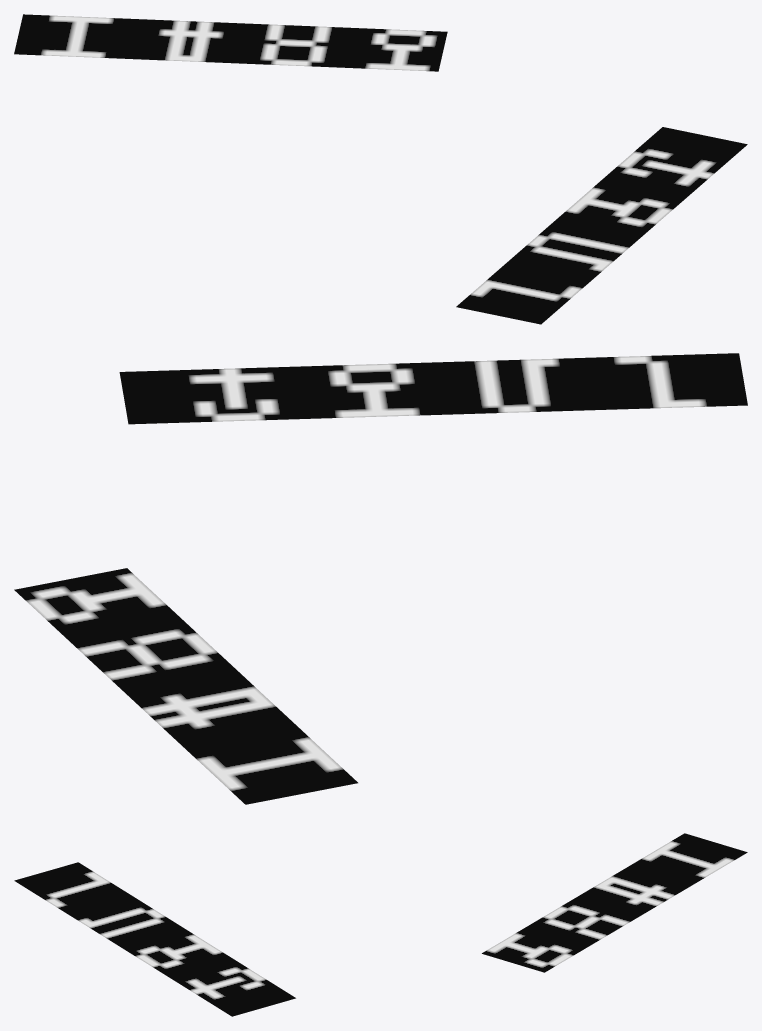
File: SM_TotemGlyphs_02_Alt.glb
3 views of the same model, one above another, from view 1: azimuth 30°, elevation 25°; view 2: azimuth 150°, elevation 25°; view 3: azimuth 270°, elevation 25° (orthographic). The views are drawn at different scales.
Visible parts, largest first — view 1: SM_TotemGlyphs_02_Alt.001; view 2: SM_TotemGlyphs_02_Alt.001; view 3: SM_TotemGlyphs_02_Alt.001.
Boxes of the visible parts, x1,y1,x2,y2 form: SM_TotemGlyphs_02_Alt.001: (14, 14, 747, 324); SM_TotemGlyphs_02_Alt.001: (14, 353, 747, 804); SM_TotemGlyphs_02_Alt.001: (14, 833, 747, 1016).
Size of the model in its own units: 558 by 0.000158 by 944.
1 material, 1 textured.
